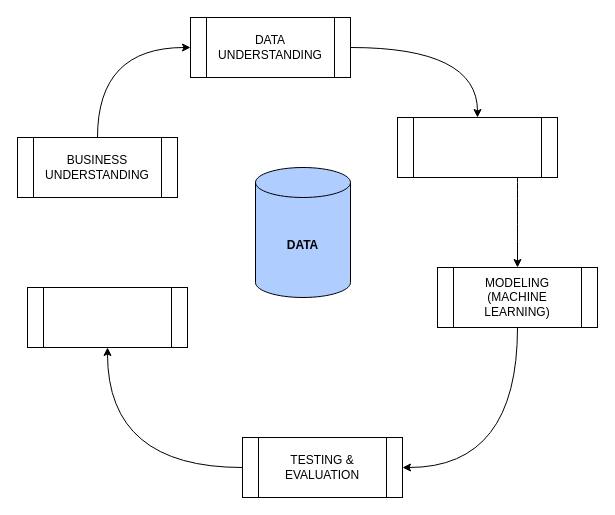
Image size: 615x515. Some labels were removed from this diagram. The shapes that lost their labels are listed below. From the top down, each one's box as (x1, y1, x2, y2) in pixels, then its label:
(396, 116, 558, 178): DATA PREPARATION
(26, 286, 188, 348): DEPLOYMENT
